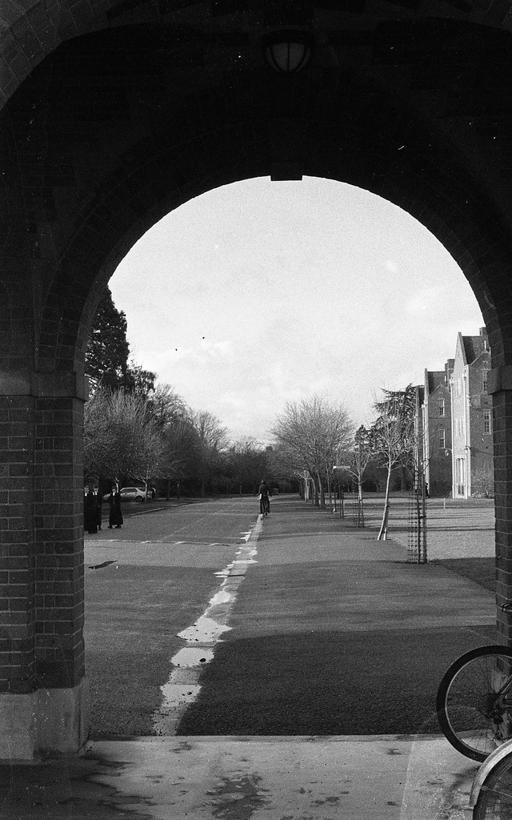non-vehicle: (435, 601, 512, 819), (255, 492, 271, 515)
